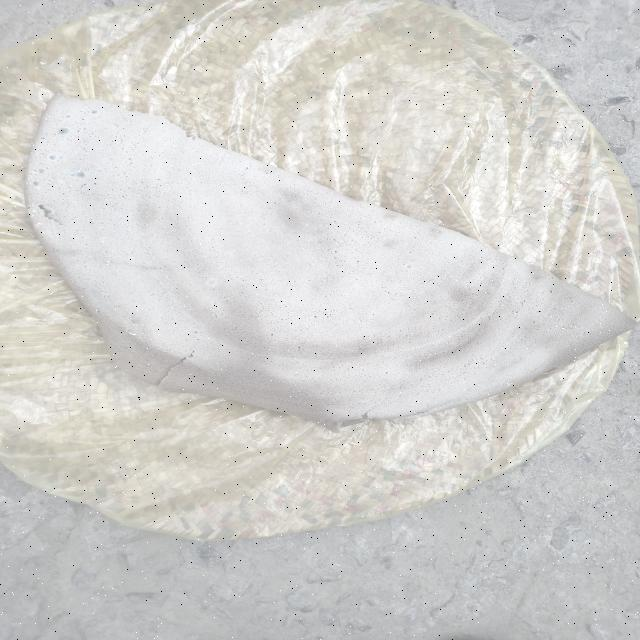injera_mold: (204, 279, 218, 288), (57, 127, 70, 135), (40, 207, 52, 214), (28, 210, 37, 218), (25, 170, 36, 176), (76, 172, 86, 178), (32, 180, 40, 187), (34, 221, 42, 228), (90, 109, 99, 115), (38, 168, 46, 174), (48, 154, 56, 160), (505, 382, 513, 388), (65, 114, 72, 119), (128, 332, 136, 336), (40, 136, 46, 140), (82, 126, 88, 130), (406, 264, 412, 268), (555, 325, 561, 329), (70, 173, 75, 177), (562, 327, 565, 330), (499, 383, 503, 385), (574, 326, 578, 328), (60, 181, 63, 183), (44, 117, 47, 119), (140, 337, 143, 339), (48, 116, 50, 118), (46, 113, 48, 115), (126, 329, 128, 331), (126, 331, 128, 333), (142, 324, 144, 326), (556, 318, 558, 320), (554, 333, 558, 334), (554, 322, 557, 323), (133, 324, 135, 325), (560, 334, 562, 335)
